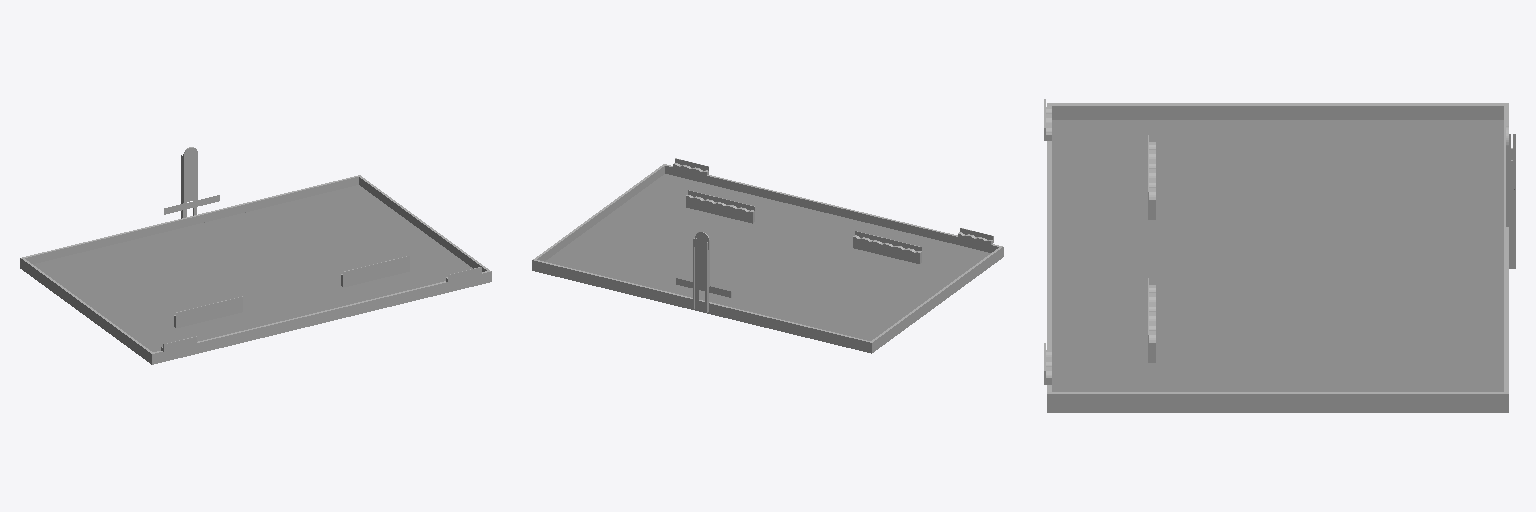
The robot description file, URDF, robot "eurobot2019_base":
<robot
  name="eurobot2019_base">
  <link
    name="base_link">
    <inertial>
      <origin
        xyz="1.5 -1 0.0111"
        rpy="0 0 0" />
      <mass
        value="133.2" />
      <inertia
        ixx="44.405"
        ixy="-4.4567E-15"
        ixz="1.0747E-16"
        iyy="99.905"
        iyz="2.7263E-15"
        izz="144.3" />
    </inertial>
    <visual>
      <origin
        xyz="0 0 0"
        rpy="0 0 0" />
      <geometry>
        <mesh
          filename="package://eurobot2019_base/meshes/base_link.STL" />
      </geometry>
      <material
        name="base">
        <color
          rgba="0.62745 0.62745 0.62745 1" />
        <texture
          filename="package://eurobot2019_base/textures/CDR2019-Aire_de_jeu-v1.01-FINAL-export-plateau-1.png" />
      </material>
    </visual>
    <collision>
      <origin
        xyz="0 0 0"
        rpy="0 0 0" />
      <geometry>
        <mesh
          filename="package://eurobot2019_base/meshes/base_link.STL" />
      </geometry>
    </collision>
  </link>
  <link
    name="Empty_Link">
    <inertial>
      <origin
        xyz="-1.0132 0.1057 1.583"
        rpy="0 0 0" />
      <mass
        value="83.952" />
      <inertia
        ixx="61.471"
        ixy="5.8431"
        ixz="0.0010631"
        iyy="125.92"
        iyz="1.6409E-05"
        izz="72.04" />
    </inertial>
    <visual>
      <origin
        xyz="0 0 0"
        rpy="0 0 0" />
      <geometry>
        <mesh
          filename="package://eurobot2019_base/meshes/Empty_Link.STL" />
      </geometry>
      <material
        name="">
        <color
          rgba="0.75294 0.75294 0.75294 1" />
      </material>
    </visual>
    <collision>
      <origin
        xyz="0 0 0"
        rpy="0 0 0" />
      <geometry>
        <mesh
          filename="package://eurobot2019_base/meshes/Empty_Link.STL" />
      </geometry>
    </collision>
  </link>
  <joint
    name="Empty_joint"
    type="fixed">
    <origin
      xyz="3.08300000000066 -1.93899999999889 0.0439999999999997"
      rpy="1.5707963267949 -6.12303176911189E-17 -1.5707963267949" />
    <parent
      link="base_link" />
    <child
      link="Empty_Link" />
    <axis
      xyz="0 0 0" />
  </joint>
</robot>

--- Render facts (derived) ---
The picture shows the robot from 3 angles, left to right: view 1: azimuth 30°, elevation 25°; view 2: azimuth 150°, elevation 25°; view 3: azimuth 270°, elevation 25°; orthographic projection.
Robot: eurobot2019_base — 2 links, 1 joints (1 fixed); root link base_link; default pose: all joints at 0.
Links seen in each view (by area): view 1: base_link, Empty_Link; view 2: base_link, Empty_Link; view 3: base_link, Empty_Link.
Link boxes in pixels (x1,y1,x2,y2): base_link: (33, 185, 472, 351); Empty_Link: (20, 147, 491, 364); base_link: (545, 174, 990, 340); Empty_Link: (532, 158, 1003, 353); base_link: (1052, 120, 1503, 391); Empty_Link: (1044, 99, 1515, 412).
Size in the robot's own frame: 3.04 by 2.09 by 0.6851 metres.
Meshes: 2 distinct files referenced, 2 mesh visuals loaded (2 binary STL).